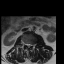CCS_normal: (27, 42, 29, 49)
LFS_stenosis: (30, 42, 32, 47)
LLS_normal: (29, 42, 30, 47)
RFS_normal: (24, 41, 26, 46)
RLS_normal: (26, 41, 27, 47)
